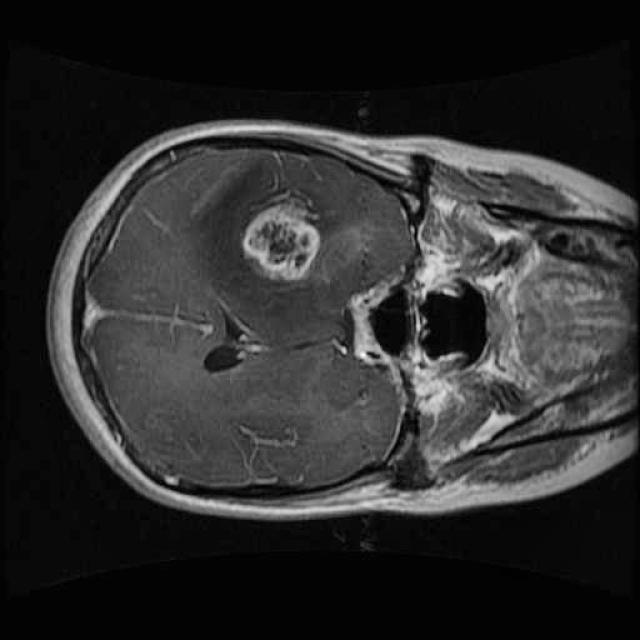Non-Tumor: (224, 171, 348, 296)
